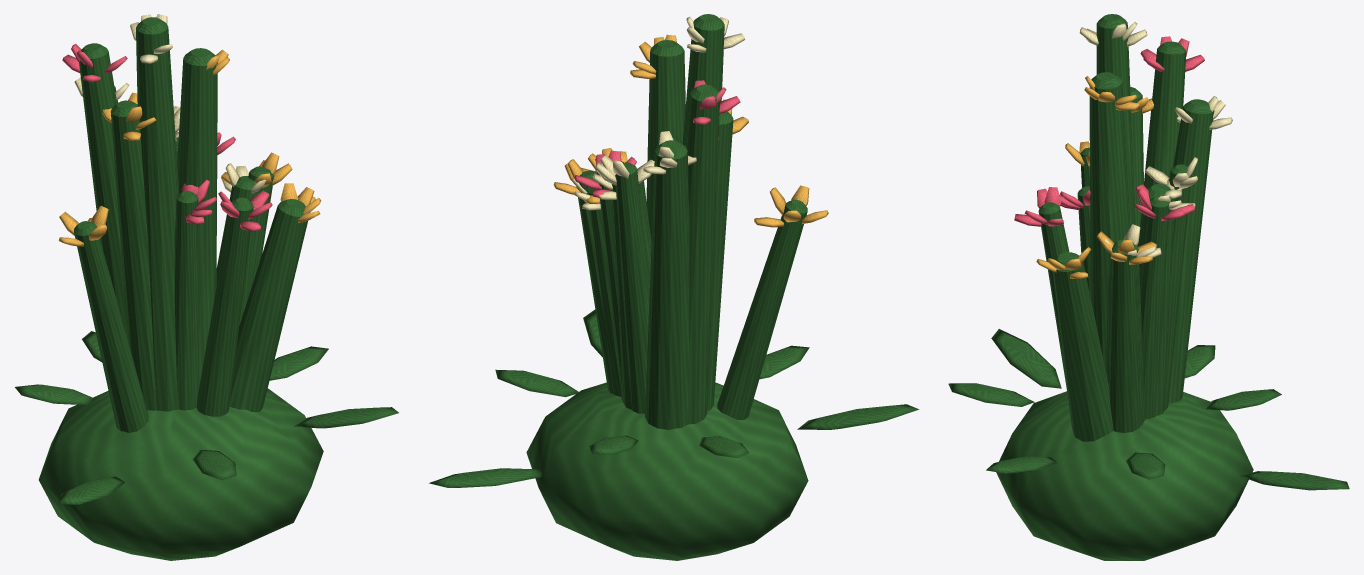
File: flower_cluster.glb
The picture shows the model from 3 angles, left to right: view 1: azimuth 30°, elevation 25°; view 2: azimuth 150°, elevation 25°; view 3: azimuth 270°, elevation 25°; orthographic projection. The views are drawn at different scales.
Visible parts, largest first — view 1: flower_cluster_mound, flower_cluster_stem7, flower_cluster_stem11, flower_cluster_stem5, flower_cluster_stem10, flower_cluster_stem6, flower_cluster_stem9, flower_cluster_stem4, flower_cluster_stem8, flower_cluster_leaf6, flower_cluster_stem13, flower_cluster_leaf0 (+4 smaller); view 2: flower_cluster_mound, flower_cluster_stem3, flower_cluster_stem4, flower_cluster_stem6, flower_cluster_stem2, flower_cluster_stem10, flower_cluster_stem5, flower_cluster_stem7, flower_cluster_stem0, flower_cluster_stem13, flower_cluster_stem12, flower_cluster_leaf4 (+6 smaller); view 3: flower_cluster_mound, flower_cluster_stem10, flower_cluster_stem11, flower_cluster_stem3, flower_cluster_stem12, flower_cluster_stem1, flower_cluster_stem4, flower_cluster_stem7, flower_cluster_stem2, flower_cluster_stem0, flower_cluster_leaf4, flower_cluster_stem9 (+9 smaller).
Part boxes in pixels (x1,y1,x2,y2): flower_cluster_mound: [38, 388, 323, 560]; flower_cluster_stem7: [136, 17, 179, 411]; flower_cluster_stem11: [229, 199, 307, 411]; flower_cluster_stem5: [110, 100, 156, 410]; flower_cluster_stem10: [177, 48, 217, 391]; flower_cluster_stem6: [74, 221, 148, 432]; flower_cluster_stem9: [196, 197, 253, 416]; flower_cluster_stem4: [79, 43, 127, 339]; flower_cluster_stem8: [174, 191, 199, 410]; flower_cluster_leaf6: [294, 407, 398, 428]; flower_cluster_stem13: [216, 176, 261, 325]; flower_cluster_leaf0: [269, 346, 328, 380]; flower_cluster_mound: [526, 382, 808, 560]; flower_cluster_stem3: [645, 140, 689, 429]; flower_cluster_stem4: [685, 84, 719, 424]; flower_cluster_stem6: [717, 199, 807, 419]; flower_cluster_stem2: [615, 162, 649, 413]; flower_cluster_stem10: [646, 40, 685, 241]; flower_cluster_stem5: [707, 111, 733, 411]; flower_cluster_stem7: [682, 14, 724, 145]; flower_cluster_stem0: [610, 181, 651, 409]; flower_cluster_stem13: [588, 188, 621, 396]; flower_cluster_stem12: [576, 170, 613, 393]; flower_cluster_leaf4: [797, 404, 919, 429]; flower_cluster_mound: [996, 391, 1253, 560]; flower_cluster_stem10: [1089, 72, 1130, 368]; flower_cluster_stem11: [1052, 252, 1113, 441]; flower_cluster_stem3: [1168, 99, 1214, 403]; flower_cluster_stem12: [1108, 240, 1140, 432]; flower_cluster_stem1: [1140, 195, 1169, 419]; flower_cluster_stem4: [1144, 41, 1186, 188]; flower_cluster_stem7: [1096, 14, 1135, 226]; flower_cluster_stem2: [1164, 164, 1191, 410]; flower_cluster_stem0: [1137, 184, 1175, 417]; flower_cluster_leaf4: [991, 329, 1061, 388]; flower_cluster_stem9: [1038, 202, 1069, 395].
Size of the model in its own units: 0.655 by 0.9552 by 0.6832.
5 materials, 5 textured.
